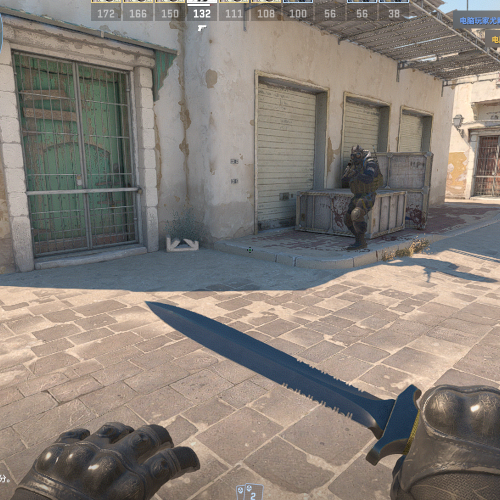ct_body: (340, 146, 384, 251)
ct_head: (350, 145, 365, 164)
